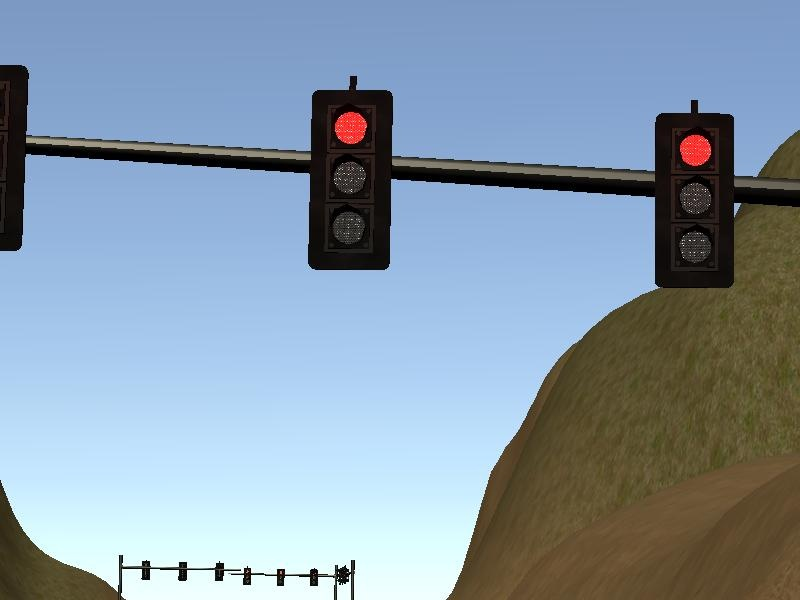red: (309, 89, 393, 271), (653, 111, 734, 289)
